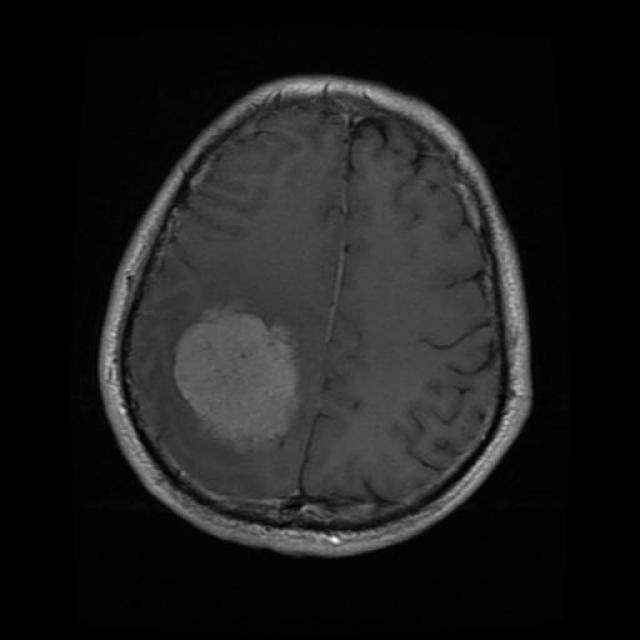Meningioma: (175, 308, 299, 451)
